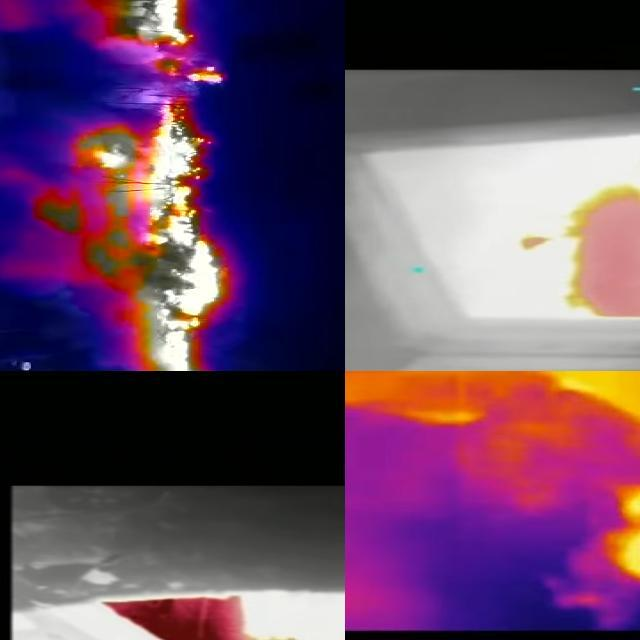fire: (37, 92, 231, 372), (513, 178, 640, 318), (94, 583, 346, 640), (71, 1, 231, 86)
